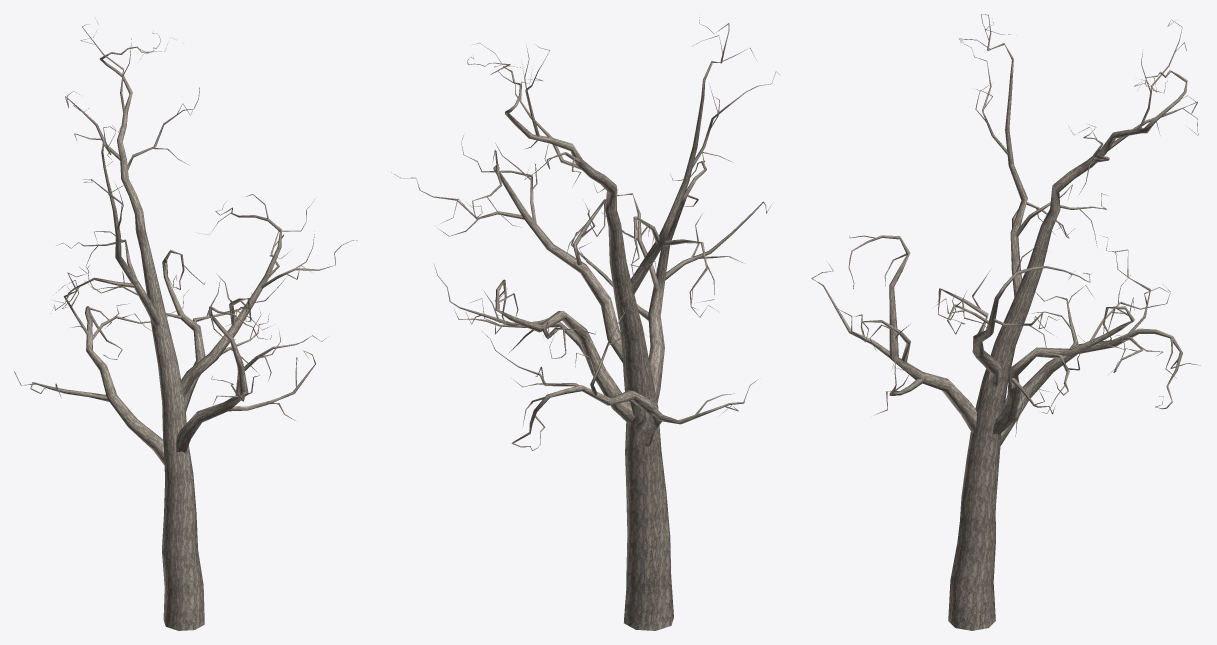
File: snag.glb
The picture shows the model from 3 angles, left to right: view 1: azimuth 30°, elevation 25°; view 2: azimuth 150°, elevation 25°; view 3: azimuth 270°, elevation 25°; orthographic projection. The views are drawn at different scales.
Visible parts, largest first — view 1: eztree-snag; view 2: eztree-snag; view 3: eztree-snag.
Part boxes in pixels (x1,y1,x2,y2): eztree-snag: [14, 18, 357, 630]; eztree-snag: [391, 17, 779, 630]; eztree-snag: [811, 14, 1200, 630].
Bounding box in the file's own units: 4.54 × 8 × 4.7.
Materials: 1 (1 with a texture image).
